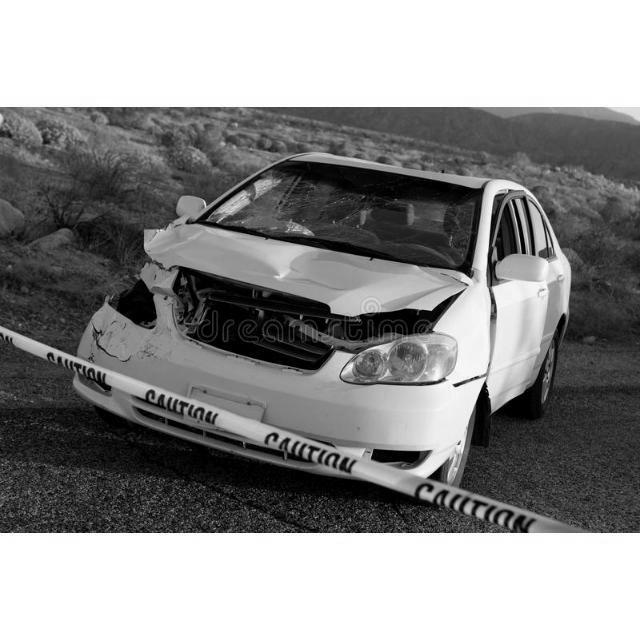Front-windscreen-damage: (215, 160, 482, 260)
bonnet-dent: (139, 205, 469, 302)
front-bumper-dent: (67, 308, 247, 433)
